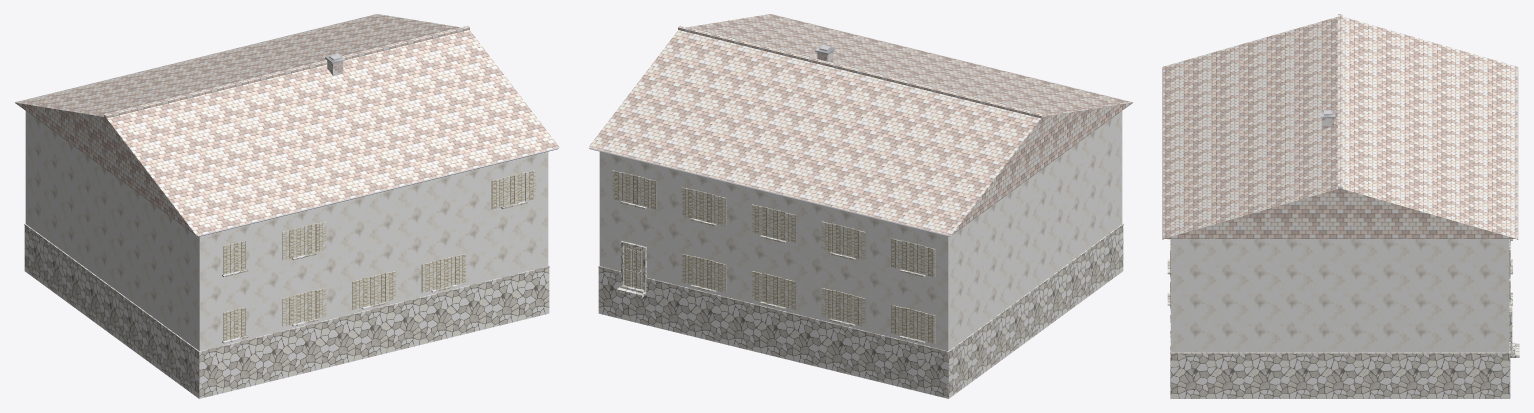
3 renders of one model, left to right at view 1: azimuth 30°, elevation 25°; view 2: azimuth 150°, elevation 25°; view 3: azimuth 270°, elevation 25°, orthographic. The views are drawn at different scales.
Parts seen in each view (by area): view 1: b615514535; view 2: b615514535; view 3: b615514535.
Part boxes in pixels (<box>): b615514535: <box>15,14,558,398</box>; b615514535: <box>589,14,1132,398</box>; b615514535: <box>1162,14,1519,398</box>.
Size of the model in its own units: 17.76 by 10.72 by 15.54.
Materials: 18 (18 with a texture image).
